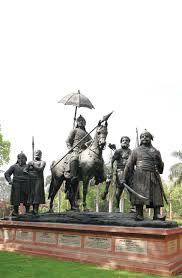person-like: (122, 128, 170, 222), (65, 113, 94, 205), (107, 134, 134, 212), (4, 150, 31, 216), (29, 149, 47, 217)
